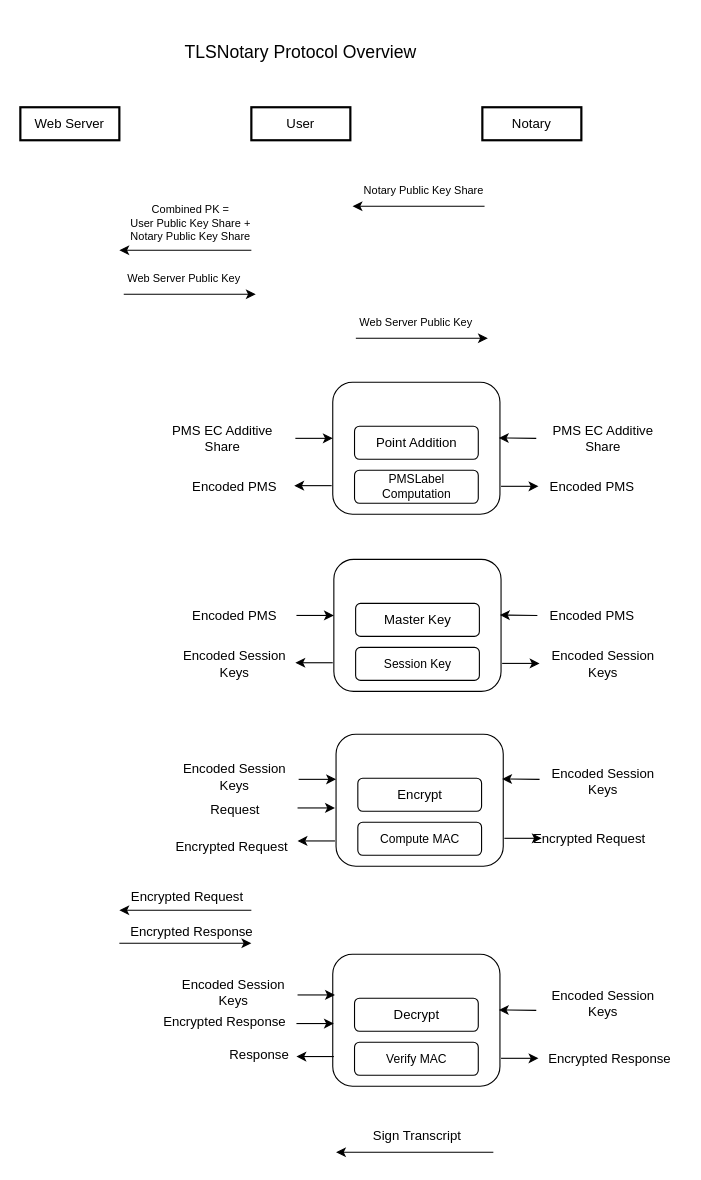
Some shapes in this 701 by 1180 pixel diagram are drawn without their labels. The box of each missing label's shape, as (x1, y1, x2, y2) in pixels:
Decrypt Response: (332, 953, 500, 1086)
Encrypt Request: (335, 733, 503, 866)
Key Exchange: (332, 381, 500, 514)
Session Key Derivation: (333, 558, 501, 691)
